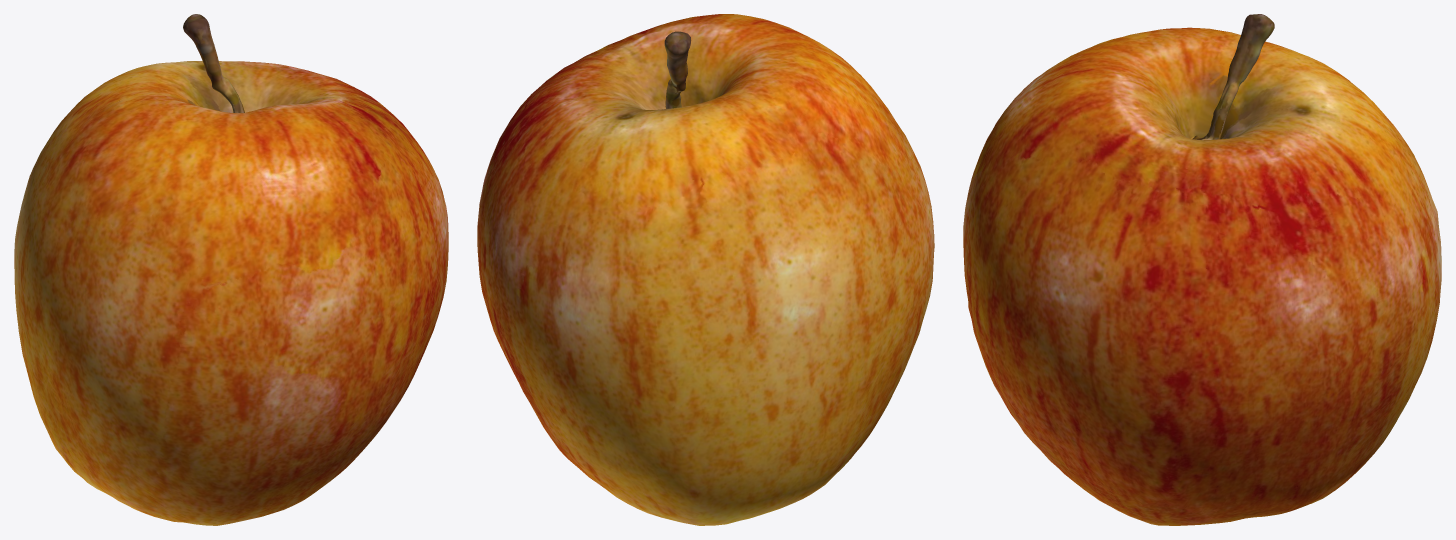
The model's file is apple-valentine.glb.
3 views of the same model, side by side, from view 1: azimuth 30°, elevation 25°; view 2: azimuth 150°, elevation 25°; view 3: azimuth 270°, elevation 25° (orthographic). The views are drawn at different scales.
Parts seen in each view (by area): view 1: apple textured obj; view 2: apple textured obj; view 3: apple textured obj.
Boxes of the visible parts, x1,y1,x2,y2 form: apple textured obj: (14, 14, 448, 525); apple textured obj: (477, 14, 934, 525); apple textured obj: (963, 14, 1441, 525).
Bounding box in the file's own units: 0.3296 × 0.3795 × 0.3383.
1 material, 1 textured.
